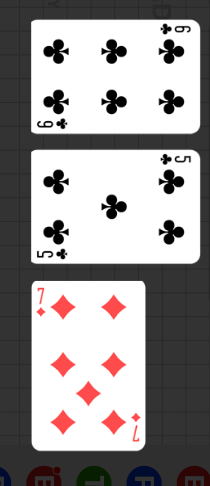6C: (157, 23, 192, 37)
7D: (34, 286, 47, 319), (130, 411, 142, 443)
